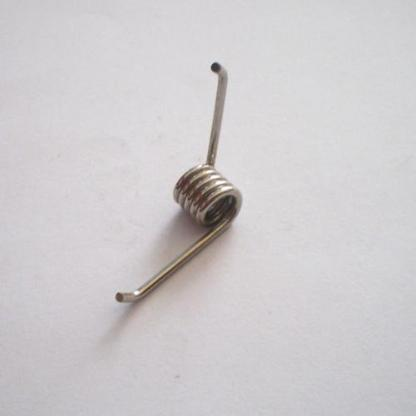FOD: (113, 61, 245, 308)
